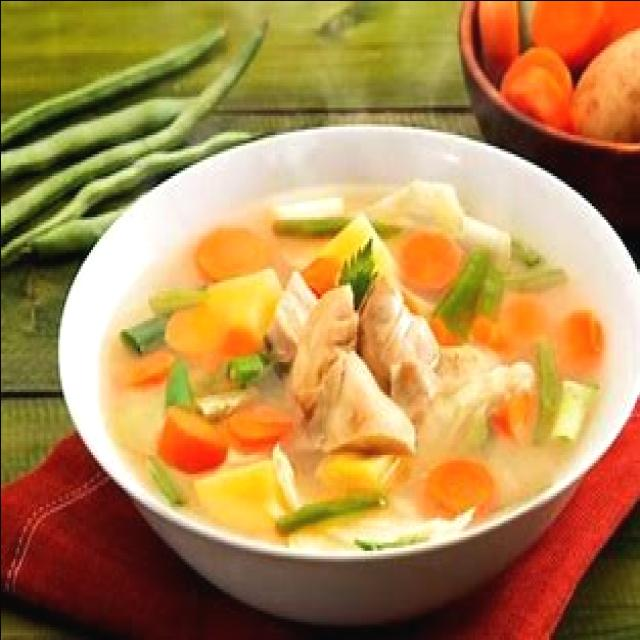sop: (117, 181, 601, 536)
